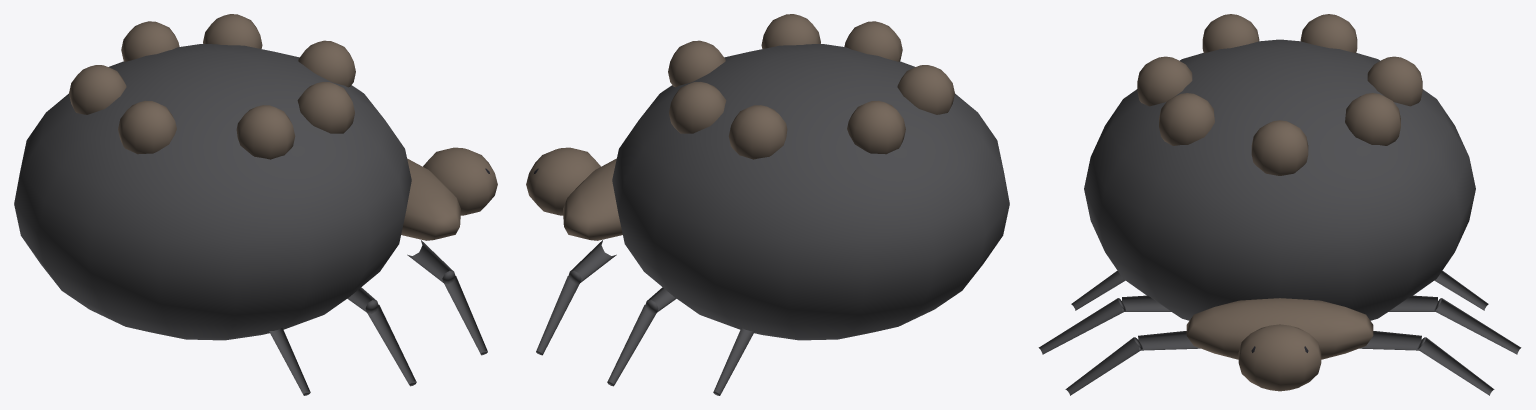
The model's file is ladybug.glb.
The picture shows the model from 3 angles, left to right: view 1: azimuth 30°, elevation 25°; view 2: azimuth 150°, elevation 25°; view 3: azimuth 270°, elevation 25°; orthographic projection.
Visible parts, largest first — view 1: Dome, SpotPronotum, SpotHead, Spot4, Spot6, Spot2, Spot7, Spot1, Spot5, Spot3, TibiaLegL2, TibiaLegL1 (+3 smaller); view 2: Dome, SpotPronotum, SpotHead, Spot5, Spot7, Spot3, Spot6, Spot1, Spot4, Spot2, TibiaLegR2, TibiaLegR1 (+3 smaller); view 3: Dome, SpotPronotum, SpotHead, Spot1, Spot2, Spot3, Spot4, Spot5, Spot6, Spot7, TibiaLegL2, TibiaLegR2 (+8 smaller).
Part boxes in pixels (<box>): Dome: <box>14,44,411,340</box>; SpotPronotum: <box>401,158,460,240</box>; SpotHead: <box>423,147,497,215</box>; Spot4: <box>236,105,295,159</box>; Spot6: <box>118,100,176,154</box>; Spot2: <box>297,82,354,133</box>; Spot7: <box>69,65,126,114</box>; Spot1: <box>298,40,355,87</box>; Spot5: <box>121,21,179,61</box>; Spot3: <box>203,14,262,48</box>; TibiaLegL2: <box>366,305,416,386</box>; TibiaLegL1: <box>444,276,487,355</box>; Dome: <box>612,44,1009,340</box>; SpotPronotum: <box>563,158,622,240</box>; SpotHead: <box>526,147,600,215</box>; Spot5: <box>728,105,787,159</box>; Spot7: <box>847,100,905,154</box>; Spot3: <box>669,82,726,133</box>; Spot6: <box>897,65,954,114</box>; Spot1: <box>668,40,725,87</box>; Spot4: <box>844,21,902,61</box>; Spot2: <box>761,14,820,48</box>; TibiaLegR2: <box>607,305,657,386</box>; TibiaLegR1: <box>536,276,579,355</box>; Dome: <box>1084,39,1475,320</box>; SpotPronotum: <box>1186,298,1373,359</box>; SpotHead: <box>1238,324,1321,391</box>; Spot1: <box>1251,120,1308,175</box>; Spot2: <box>1159,93,1214,145</box>; Spot3: <box>1345,93,1400,145</box>; Spot4: <box>1137,56,1192,106</box>; Spot5: <box>1367,56,1422,106</box>; Spot6: <box>1202,14,1259,52</box>; Spot7: <box>1300,14,1357,52</box>; TibiaLegL2: <box>1038,298,1125,354</box>; TibiaLegR2: <box>1434,298,1521,354</box>.
Bounding box in the file's own units: 1 × 0.538 × 0.9249.
